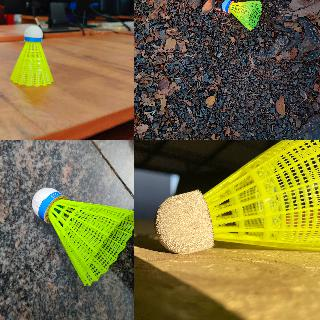shuttlecock: (154, 140, 319, 255), (32, 187, 133, 286), (9, 25, 53, 87), (220, 0, 262, 32)
